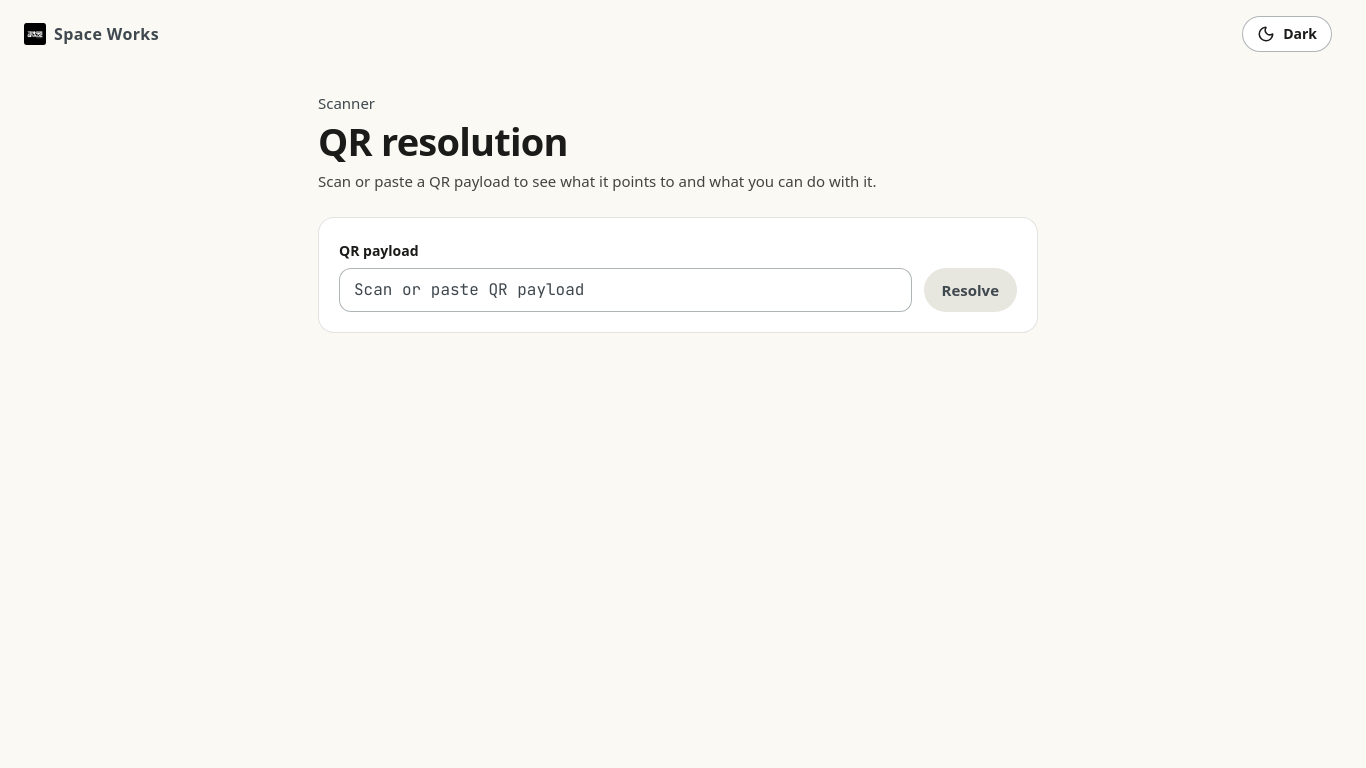
Test case: ScannerPage › shows the target and allowed actions of a resolved code
In the field labelled "QR payload": [625, 290] box [339, 268, 912, 312], type " SW:abc "
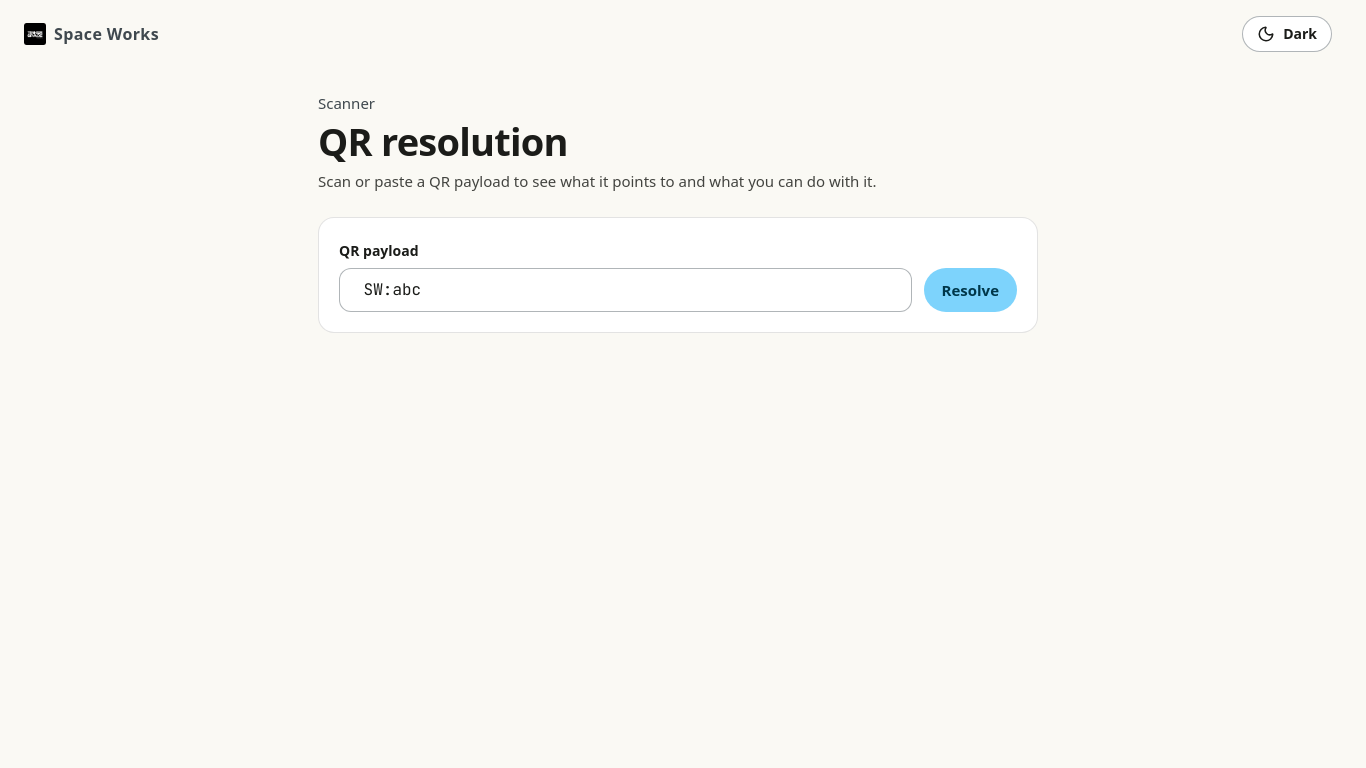
Click the 2nd button named "Resolve": [970, 290] box [924, 268, 1017, 312]
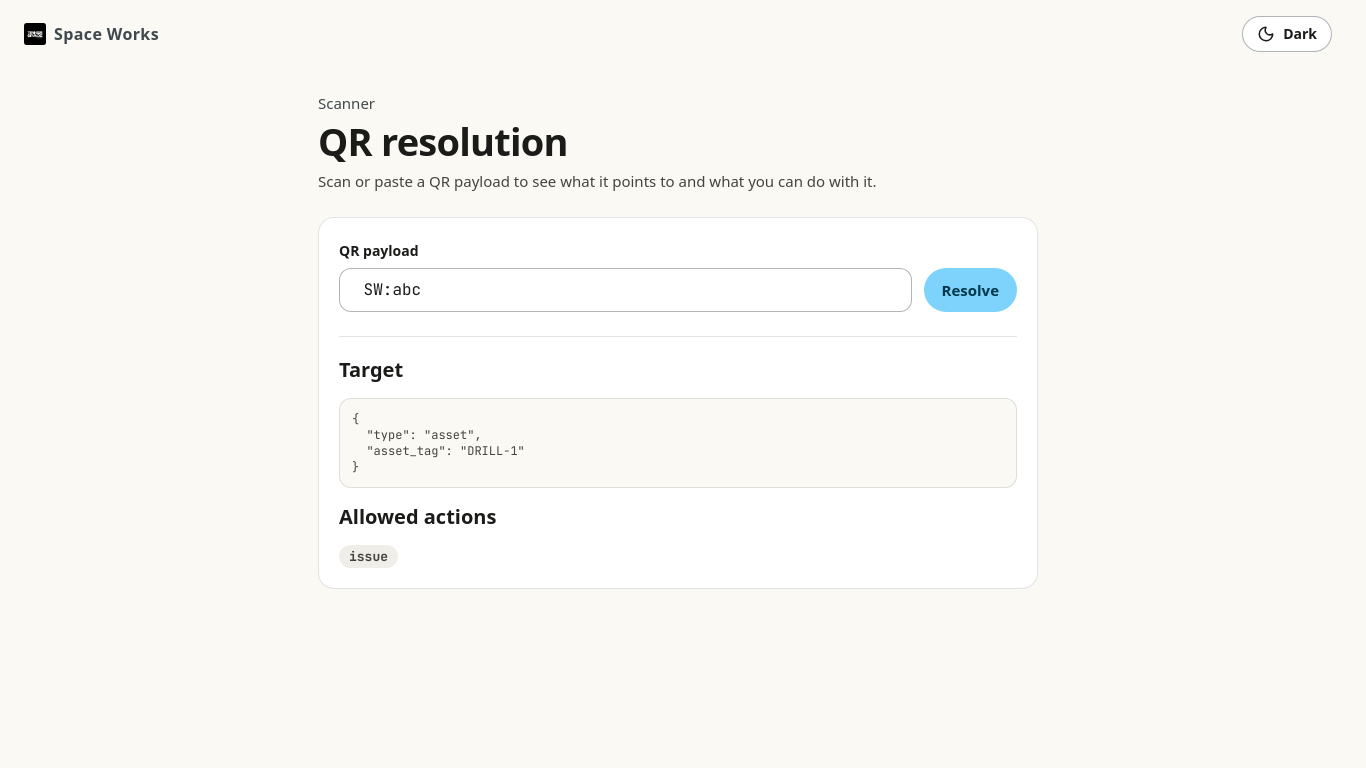
Expected: the text "issue" is shown, [349, 547, 388, 566]
Expected: the text "{ \"type\": \"asset\", \"asset_tag\": \"DRILL-1\" }" is shown, [339, 398, 1017, 488]
